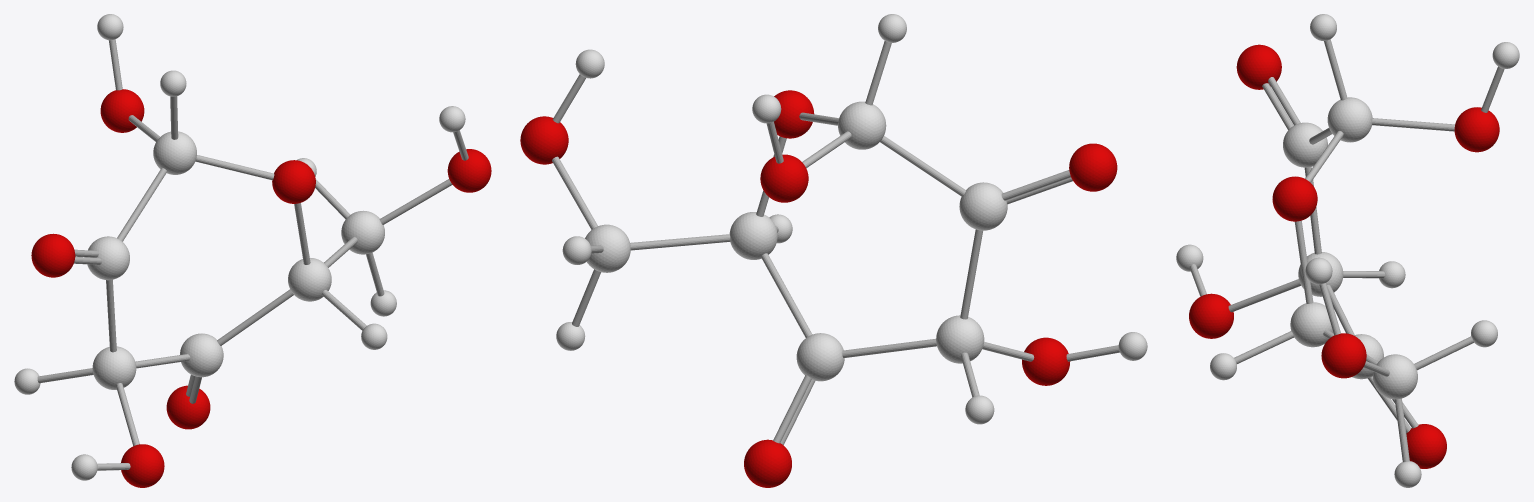
3 views of the same model, side by side, from view 1: azimuth 30°, elevation 25°; view 2: azimuth 150°, elevation 25°; view 3: azimuth 270°, elevation 25° (orthographic). The views are drawn at different scales.
Parts seen in each view (by area): view 1: world; view 2: world; view 3: world.
Boxes of the visible parts, <box> form: world: <box>14,14,491,487</box>; world: <box>520,14,1147,487</box>; world: <box>1176,14,1519,487</box>.
Bounding box in the file's own units: 6.52 × 5.12 × 3.8.
